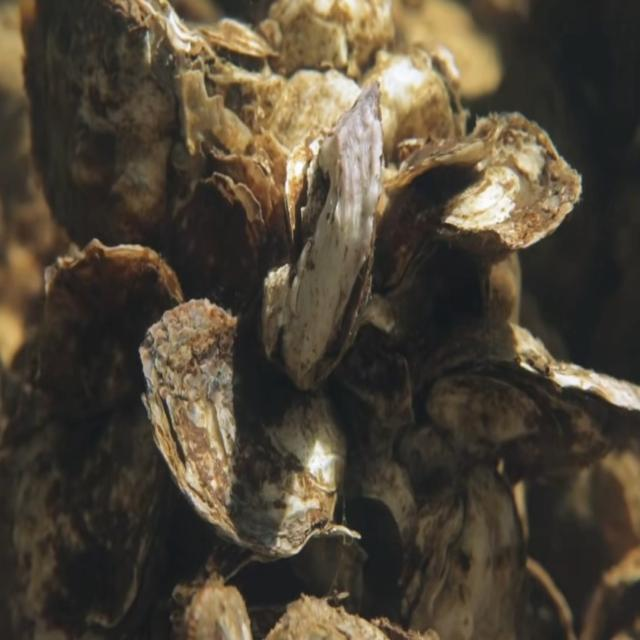Oyster-Closed: (4, 237, 185, 640), (375, 114, 584, 303), (409, 317, 640, 487), (258, 79, 382, 395), (392, 462, 528, 640)
Oyster-Indeterminate: (136, 296, 353, 560), (24, 0, 224, 272), (169, 171, 268, 325)
Oyster-Open: (223, 524, 362, 638)
